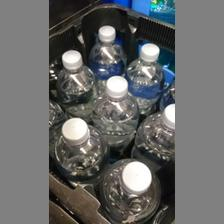Wasser: (99, 156, 162, 224), (55, 113, 107, 185), (91, 74, 136, 150), (123, 41, 161, 112), (130, 100, 174, 160), (55, 49, 93, 115), (88, 24, 124, 76)
